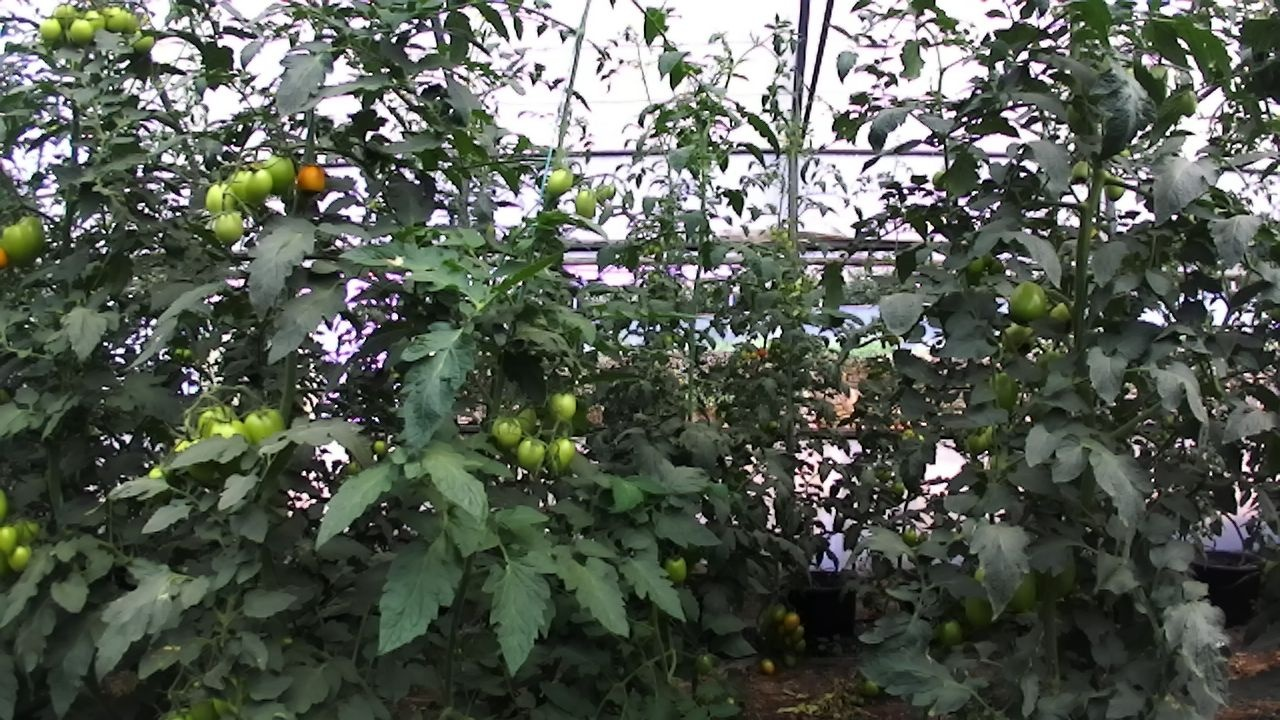tomato: (0, 205, 59, 272), (237, 396, 296, 461), (1000, 272, 1055, 327), (198, 175, 248, 228), (988, 315, 1044, 362), (258, 147, 304, 202), (980, 367, 1027, 420), (535, 428, 581, 479), (206, 205, 253, 253), (486, 407, 531, 455), (236, 158, 277, 209), (539, 382, 585, 427), (510, 429, 553, 474), (290, 157, 332, 201), (121, 20, 163, 60), (1065, 149, 1101, 195), (540, 159, 578, 199), (567, 182, 604, 222), (933, 611, 970, 650), (657, 550, 694, 586), (1, 540, 37, 577), (752, 650, 786, 685), (100, 1, 132, 37), (49, 0, 81, 36), (1100, 167, 1130, 205), (80, 4, 111, 39), (35, 12, 68, 44), (66, 14, 96, 48), (0, 521, 26, 560), (778, 607, 804, 636), (767, 599, 792, 627), (786, 620, 809, 645)
